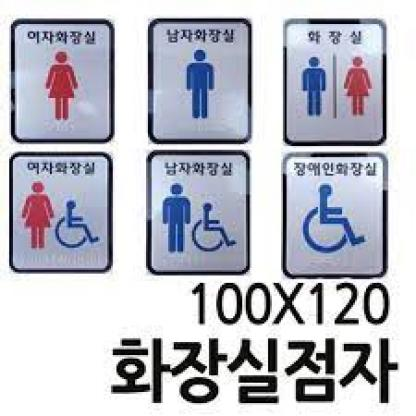toilet: (22, 178, 102, 252), (300, 49, 376, 125), (160, 182, 240, 254), (302, 179, 368, 259), (44, 48, 82, 123), (182, 45, 218, 122)
